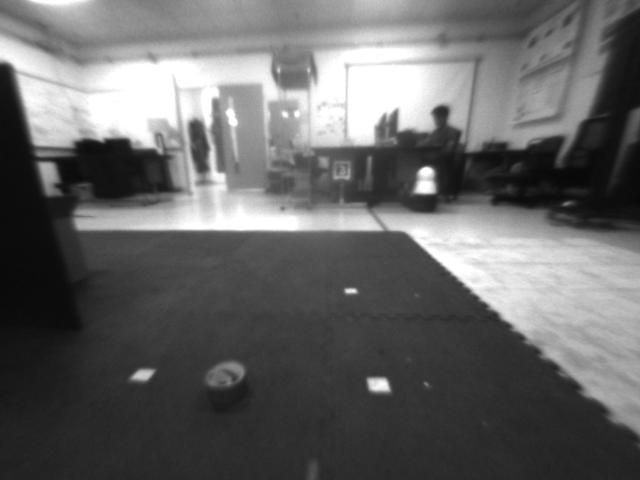dogtoy: (190, 358, 259, 404)
